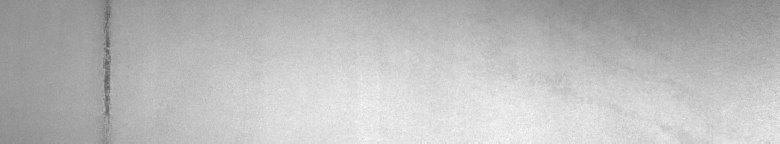hd: (100, 4, 116, 120)
